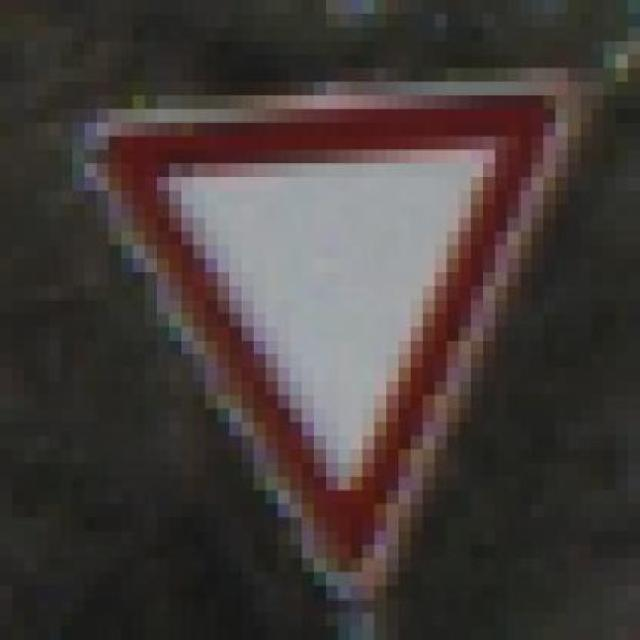Give Way: (24, 55, 591, 613)
